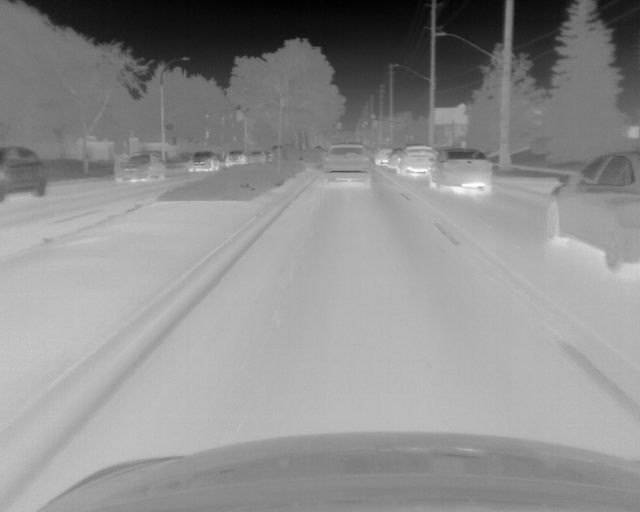car: (545, 153, 640, 274), (1, 145, 50, 203), (430, 148, 493, 191), (323, 144, 370, 186), (112, 152, 165, 181), (397, 146, 431, 175), (187, 151, 220, 171), (226, 151, 243, 166), (375, 147, 388, 164)
